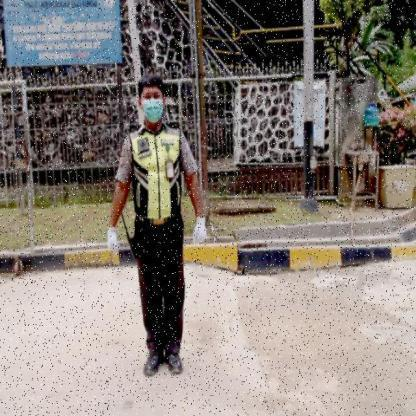boots: (142, 353, 165, 378), (164, 351, 184, 376)
gloves: (191, 216, 210, 245), (105, 226, 121, 257)
mask: (144, 100, 164, 122)
